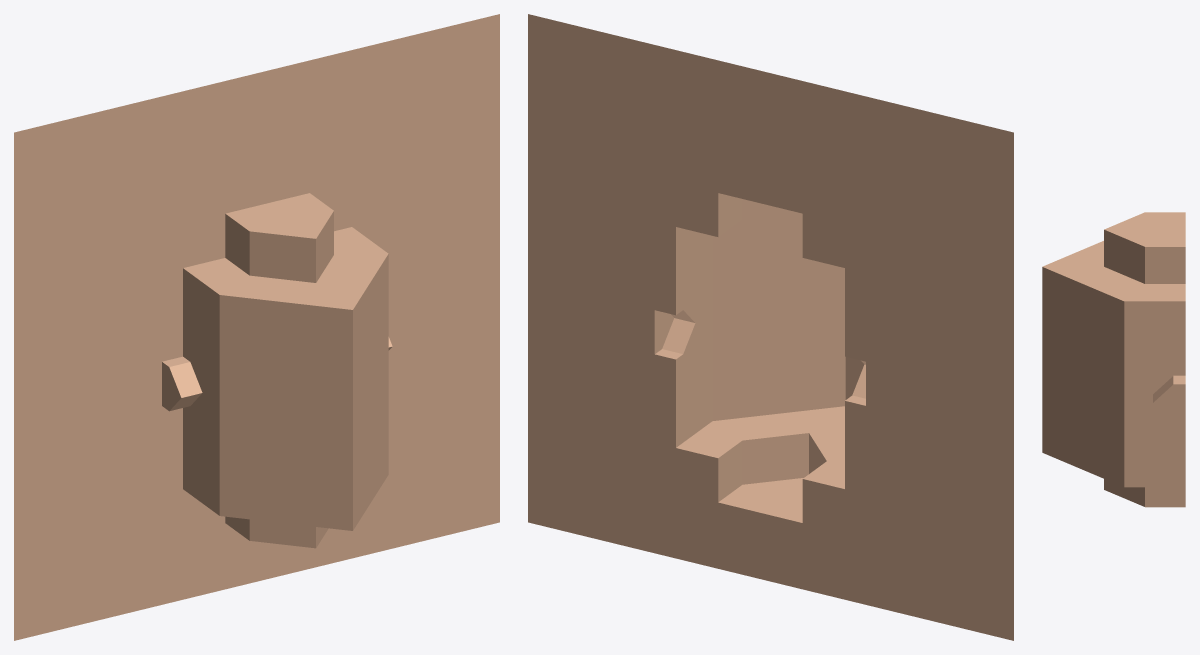
Rendered from house2.obj.
The picture shows the model from 3 angles, left to right: view 1: azimuth 30°, elevation 25°; view 2: azimuth 150°, elevation 25°; view 3: azimuth 270°, elevation 25°; orthographic projection. The views are drawn at different scales.
Visible parts, largest first — view 1: Line001; view 2: Line001; view 3: Line001.
Part boxes in pixels (x1,y1,x2,y2): Line001: [14, 14, 499, 640]; Line001: [528, 14, 1013, 640]; Line001: [1042, 212, 1185, 507].
Size of the model in its own units: 230 by 230 by 70.
